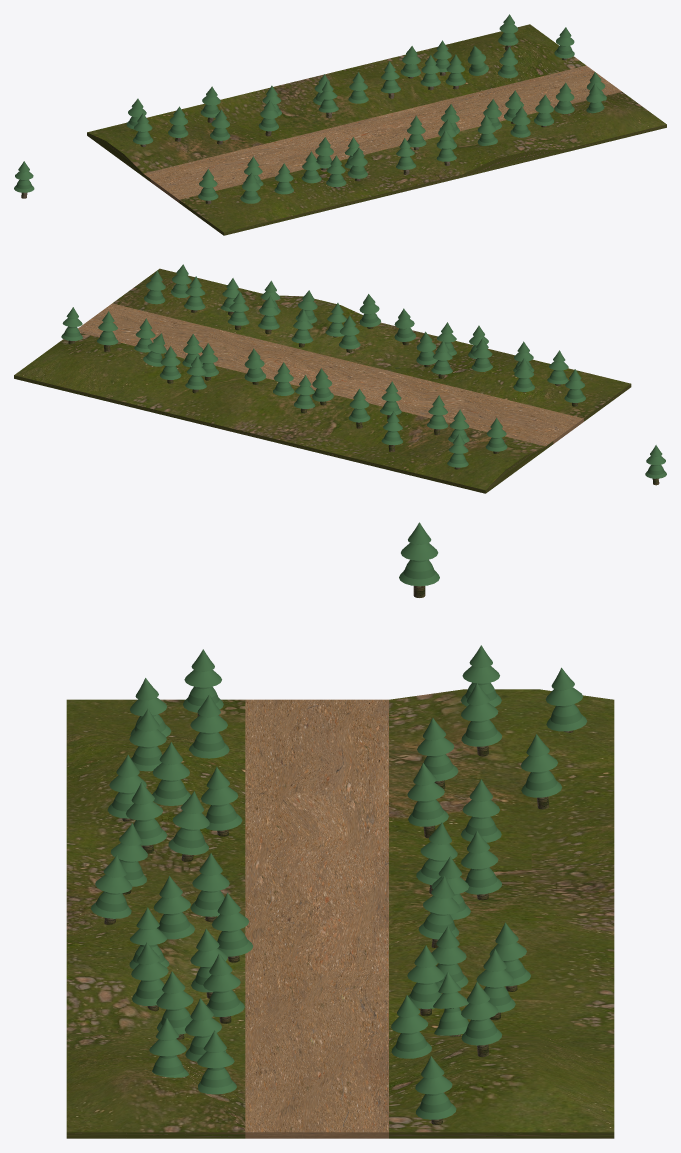
Rendered from Endless Runner Level 2.fbx.
3 views of the same model, one above another, from view 1: azimuth 30°, elevation 25°; view 2: azimuth 150°, elevation 25°; view 3: azimuth 270°, elevation 25° (orthographic). The views are drawn at different scales.
Parts seen in each view (by area): view 1: Dirt Road, Tree, Tree016, Tree012, Tree014, Tree007, Tree027, Tree024, Tree008, Tree015, Tree023, Tree036 (+22 smaller); view 2: Dirt Road, Tree, Tree005, Tree007, Tree023, Tree024, Tree015, Tree008, Tree031, Tree014, Tree018, Tree025 (+27 smaller); view 3: Dirt Road, Tree, Tree015, Tree007, Tree012, Tree016, Tree009, Tree025, Tree040, Tree030, Tree017, Tree010 (+31 smaller).
Part boxes in pixels (x1,y1,x2,y2): Dirt Road: (87,24,666,235); Tree: (14,161,34,198); Tree016: (258,100,278,136); Tree012: (168,106,188,141); Tree014: (210,109,230,144); Tree007: (498,14,518,50); Tree027: (347,147,367,181); Tree024: (318,80,338,118); Tree008: (381,61,400,98); Tree015: (200,86,220,122); Tree023: (396,138,416,174); Tree036: (420,55,440,90); Dirt Road: (14,268,631,493); Tree: (645,445,666,485); Tree005: (348,388,370,428); Tree007: (97,311,118,352); Tree023: (394,308,416,345); Tree024: (312,368,333,405); Tree015: (381,411,402,452); Tree008: (244,348,266,384); Tree031: (159,346,181,383); Tree014: (427,395,448,435); Tree018: (564,369,585,406); Tree025: (359,294,380,328); Dirt Road: (66,689,614,1138); Tree: (399,522,439,597); Tree015: (520,734,562,809); Tree007: (461,982,502,1057); Tree012: (461,683,502,756); Tree016: (407,763,448,838); Tree009: (168,791,209,861); Tree025: (91,855,132,924); Tree040: (415,1056,456,1124); Tree030: (203,953,244,1023); Tree017: (545,667,587,732); Tree010: (201,767,242,836).
Size of the model in its own units: 622 by 59.04 by 262.
5 materials, 3 textured.
